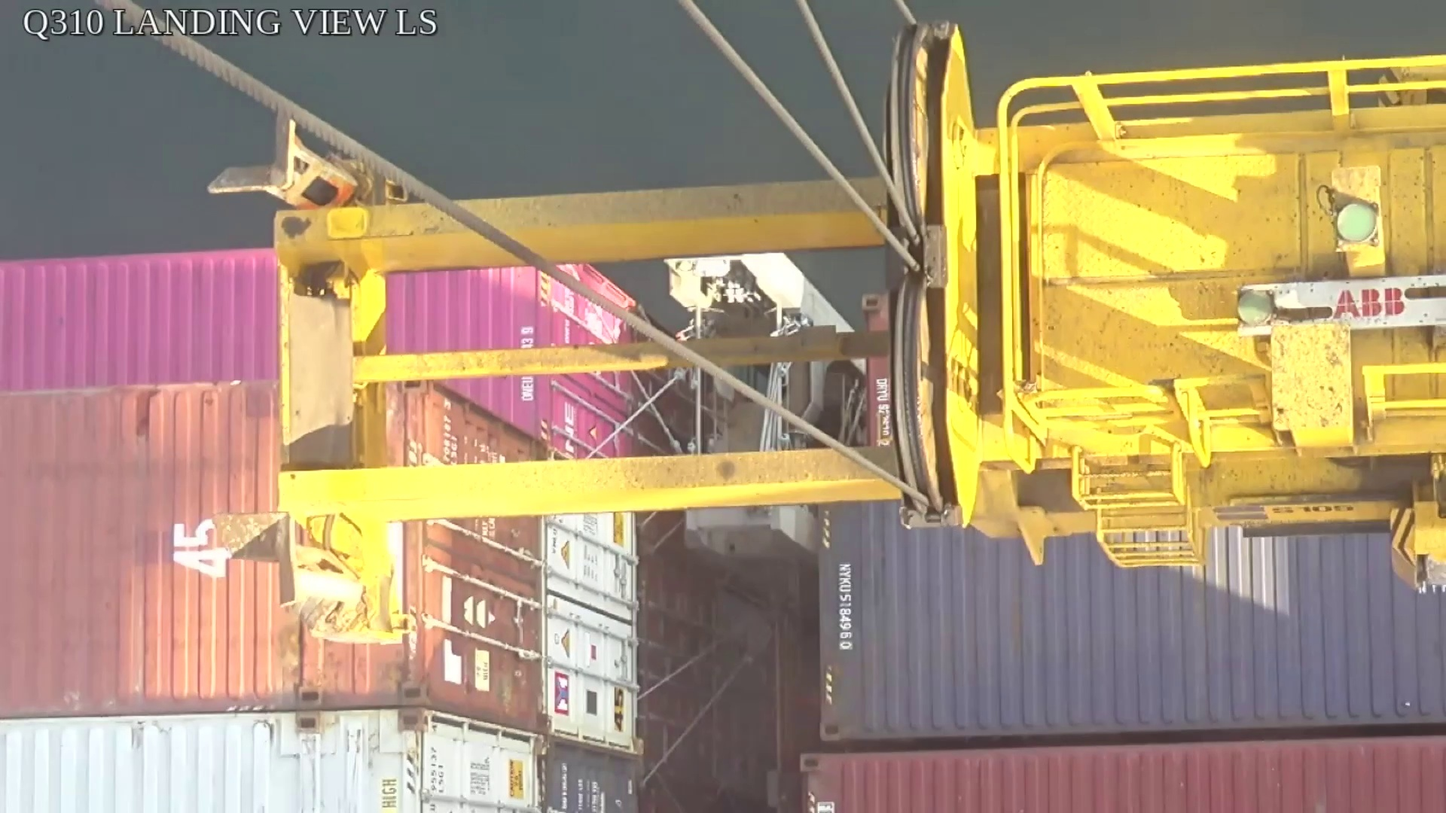aa: (883, 23, 985, 534)
